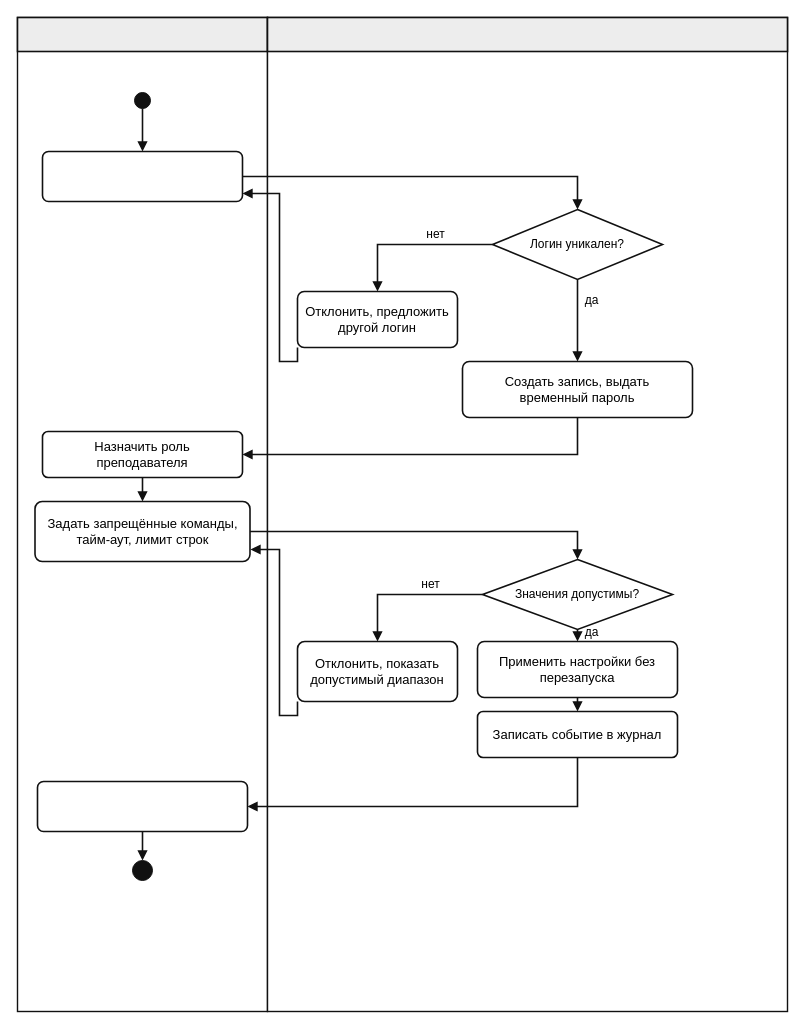
Image size: 806x1030. Some labels were removed from this diagram. Here are the shapes that lost their labels. From the top down, the centre of each, then its label:
At [142,34]: "Администратор".
At [527,34]: "Система".
At [142,176]: "Создать учётные записи студентов".
At [142,806]: "Просмотреть нагрузку на песочницы".
